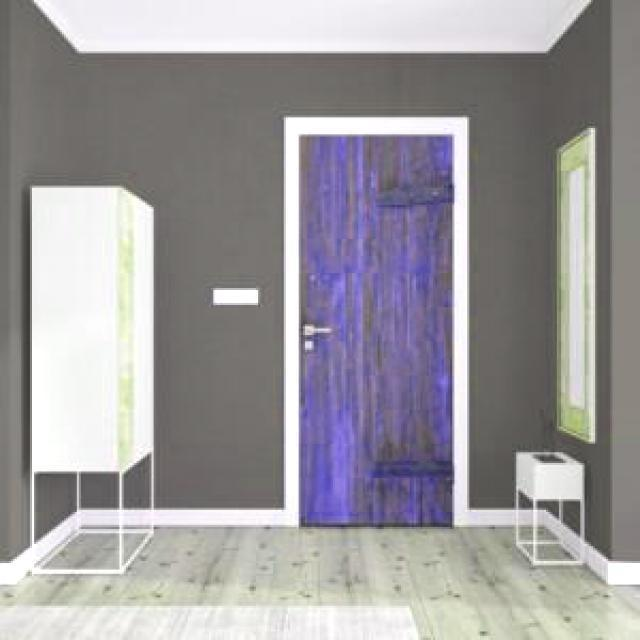door: (297, 128, 454, 527)
